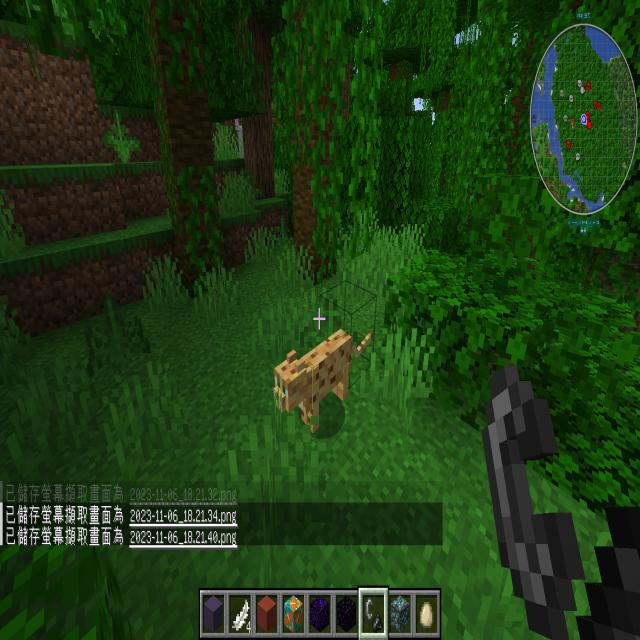Ocelot: (262, 321, 377, 444)
